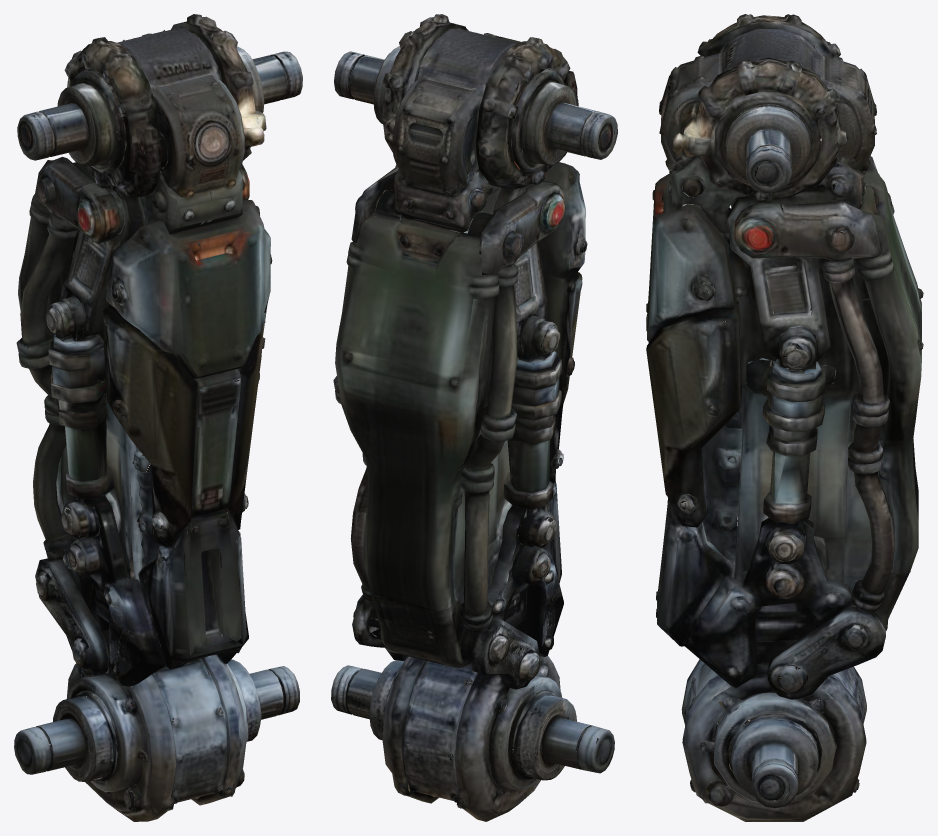
Rendered from shin.glb.
3 renders of one model, left to right at view 1: azimuth 30°, elevation 25°; view 2: azimuth 150°, elevation 25°; view 3: azimuth 270°, elevation 25°, orthographic.
Visible parts, largest first — view 1: tripo_part_0; view 2: tripo_part_0; view 3: tripo_part_0.
Part boxes in pixels (left/top/right/bottom): tripo_part_0: left=14, top=14, right=302, bottom=821; tripo_part_0: left=331, top=14, right=617, bottom=821; tripo_part_0: left=646, top=14, right=923, bottom=821.
Bounding box in the file's own units: 0.3523 × 0.9795 × 0.3207.
Materials: 1 (1 with a texture image).
